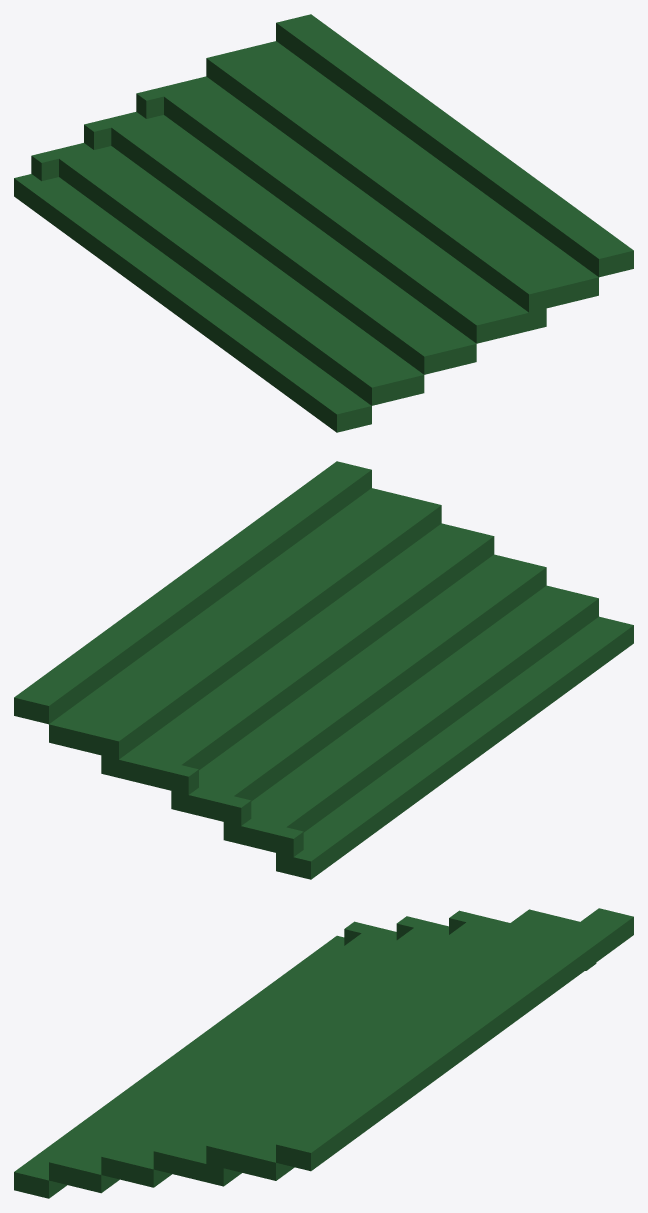
File: classic_small_car_boot_lid.glb
3 renders of one model, top to bottom at view 1: azimuth 30°, elevation 25°; view 2: azimuth 150°, elevation 25°; view 3: azimuth 330°, elevation 25°, orthographic.
Visible parts, largest first — view 1: body:compound; view 2: body:compound; view 3: body:compound.
Boxes of the visible parts, box(x1,y1,x2,y2) form: body:compound: box(14, 14, 633, 432); body:compound: box(14, 461, 633, 879); body:compound: box(14, 908, 633, 1198).
Bounding box in the file's own units: 0.5312 × 0.1875 × 1.
